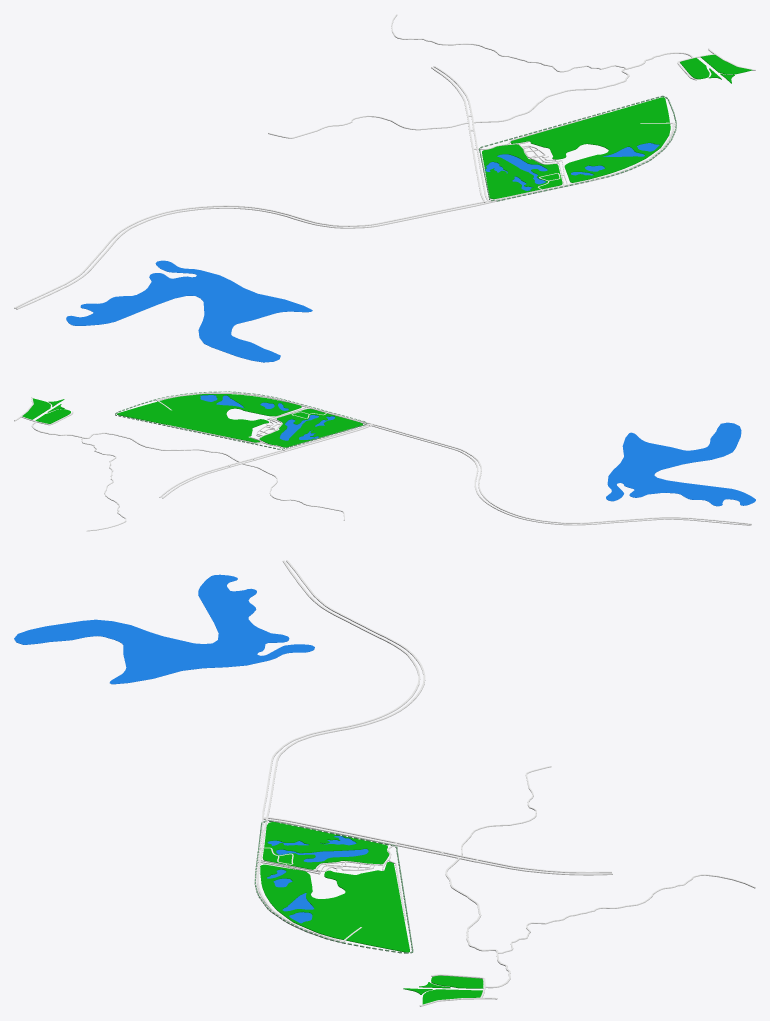
3 views of the same model, one above another, from view 1: azimuth 30°, elevation 25°; view 2: azimuth 150°, elevation 25°; view 3: azimuth 270°, elevation 25° (orthographic). The views are drawn at different scales.
Visible parts, largest first — view 1: green, water, R6, R8, LK; view 2: green, water, R6, R8, LK; view 3: green, water, R6, R8, LK.
Boxes of the visible parts, x1,y1,x2,y2 form: green: (482,54,752,199); water: (66,143,659,362); R6: (14,48,755,309); R8: (268,14,626,189); LK: (479,95,676,201); green: (22,394,362,447); water: (200,395,755,506); R6: (14,391,751,525); R8: (81,411,344,531); LK: (115,391,366,449); green: (260,822,483,1004); water: (14,574,368,923); R6: (254,560,612,1006); R8: (263,766,755,953); LK: (254,820,413,953).
Bounding box in the file's own units: 45.49 × 0.0524 × 31.98.
